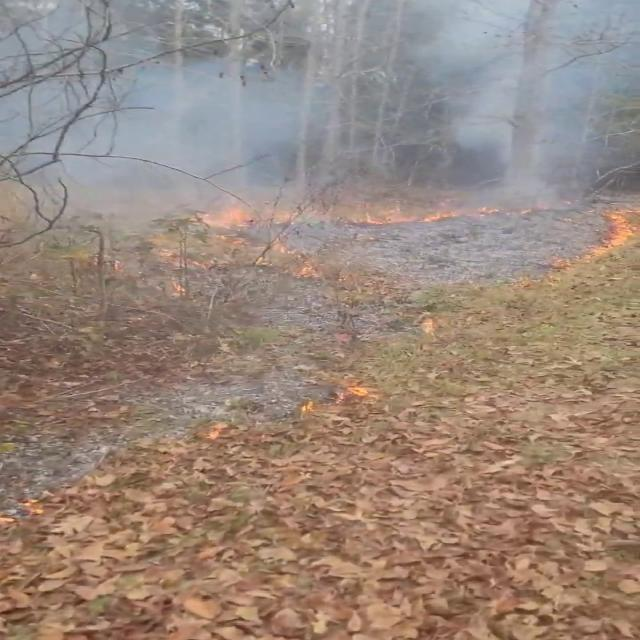Fire: (170, 194, 490, 237), (584, 194, 640, 256)
Smoke: (7, 0, 638, 251)
